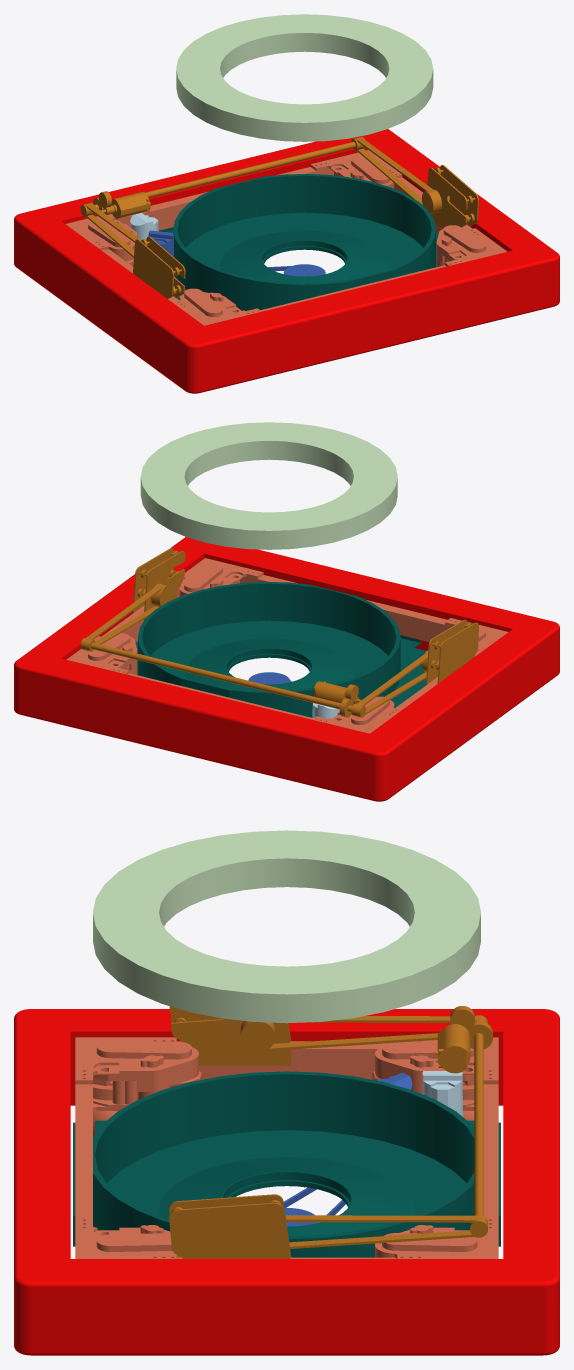
The picture shows the model from 3 angles, top to bottom: view 1: azimuth 30°, elevation 25°; view 2: azimuth 150°, elevation 25°; view 3: azimuth 270°, elevation 25°; orthographic projection. The views are drawn at different scales.
Parts seen in each view (by area): view 1: BLOCK CAD - Bumpers, BLOCK CAD: Serializer Basin, BLOCK CAD: Turret Cable Carrier Keepout, BLOCK CAD: Intake Extension, BLOCK CAD - Drivetrain, BLOCK CAD: Serializer, Feeder Drive, BLOCK CAD: Serializer, Rotor Drive; view 2: BLOCK CAD - Bumpers, BLOCK CAD: Serializer Basin, BLOCK CAD: Turret Cable Carrier Keepout, BLOCK CAD: Intake Extension, BLOCK CAD - Drivetrain; view 3: BLOCK CAD - Bumpers, BLOCK CAD: Serializer Basin, BLOCK CAD: Turret Cable Carrier Keepout, BLOCK CAD - Drivetrain, BLOCK CAD: Intake Extension, BLOCK CAD: Serializer, Rotor Drive, BLOCK CAD: Serializer, Feeder Drive.
Part boxes in pixels (<box>): BLOCK CAD - Bumpers: <box>14,129,559,393</box>; BLOCK CAD: Serializer Basin: <box>159,174,438,310</box>; BLOCK CAD: Turret Cable Carrier Keepout: <box>176,14,433,141</box>; BLOCK CAD: Intake Extension: <box>80,137,478,298</box>; BLOCK CAD - Drivetrain: <box>65,150,507,325</box>; BLOCK CAD: Serializer, Feeder Drive: <box>148,230,325,276</box>; BLOCK CAD: Serializer, Rotor Drive: <box>130,213,158,239</box>; BLOCK CAD - Bumpers: <box>14,537,559,801</box>; BLOCK CAD: Serializer Basin: <box>135,582,426,717</box>; BLOCK CAD: Turret Cable Carrier Keepout: <box>140,422,397,549</box>; BLOCK CAD: Intake Extension: <box>80,548,478,717</box>; BLOCK CAD - Drivetrain: <box>66,558,508,733</box>; BLOCK CAD - Bumpers: <box>14,1009,559,1355</box>; BLOCK CAD: Serializer Basin: <box>73,1071,500,1257</box>; BLOCK CAD: Turret Cable Carrier Keepout: <box>93,830,480,1023</box>; BLOCK CAD - Drivetrain: <box>75,1037,498,1258</box>; BLOCK CAD: Intake Extension: <box>169,1006,492,1258</box>; BLOCK CAD: Serializer, Rotor Drive: <box>422,1071,463,1116</box>; BLOCK CAD: Serializer, Feeder Drive: <box>283,1072,412,1226</box>.
Size of the model in its own units: 0.9382 by 0.5396 by 0.7858.
